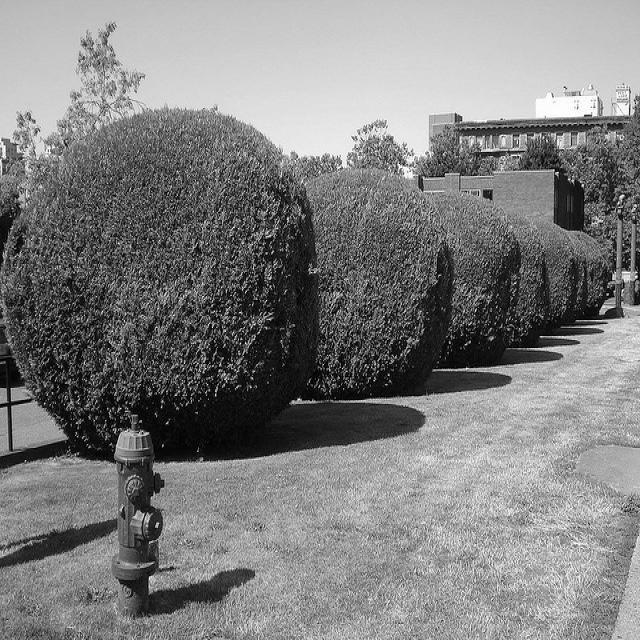fire_hydrant: (108, 411, 165, 612)
